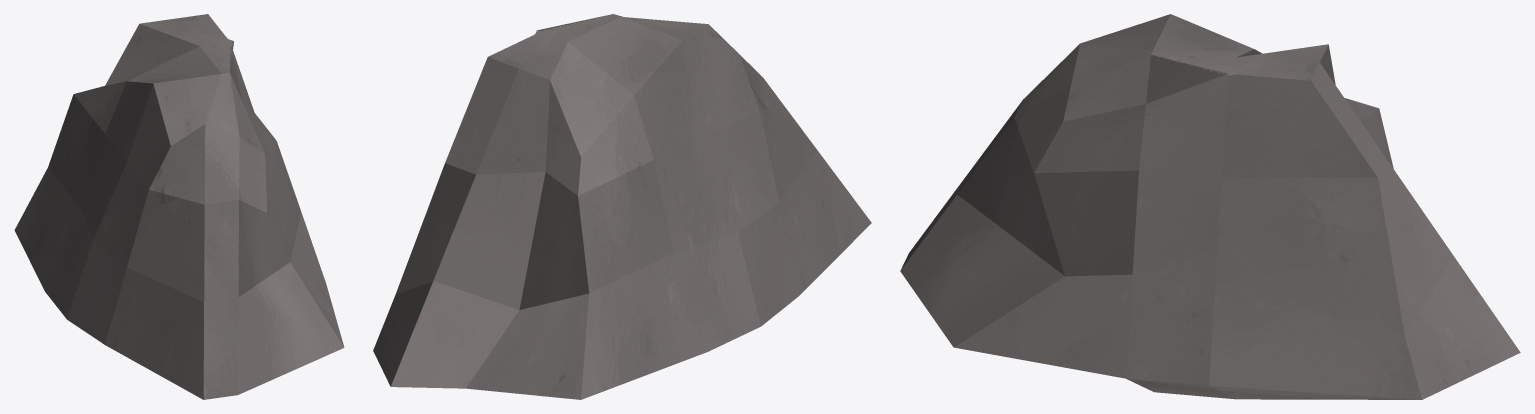
File: Stone_ver8.fbx
3 views of the same model, side by side, from view 1: azimuth 30°, elevation 25°; view 2: azimuth 150°, elevation 25°; view 3: azimuth 270°, elevation 25° (orthographic). The views are drawn at different scales.
Visible parts, largest first — view 1: Cube.049; view 2: Cube.049; view 3: Cube.049.
Part boxes in pixels (left/top/right/bottom): Cube.049: left=14, top=14, right=344, bottom=399; Cube.049: left=373, top=14, right=871, bottom=399; Cube.049: left=900, top=14, right=1520, bottom=399.
Bounding box in the file's own units: 67.47 × 74.68 × 122.
